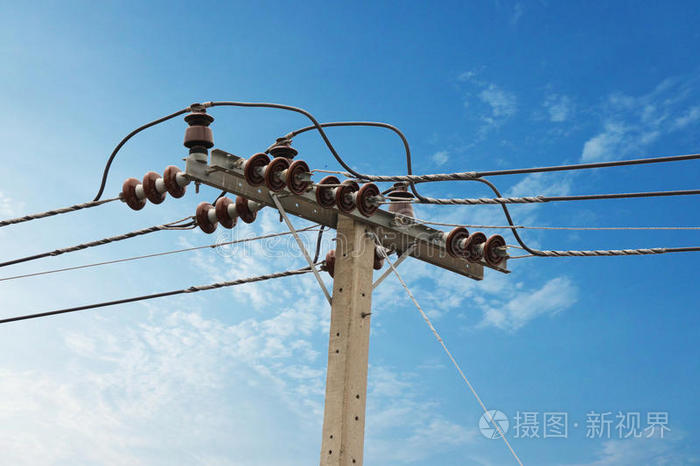insulator: (118, 165, 187, 213), (246, 152, 309, 196), (316, 173, 378, 216), (445, 224, 505, 268), (192, 192, 251, 234)
